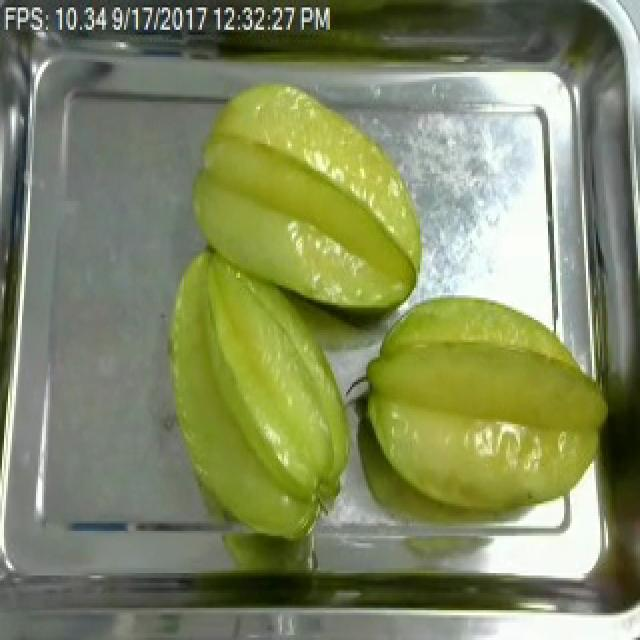fruit: (150, 233, 360, 556), (352, 290, 620, 541), (178, 74, 432, 320)
